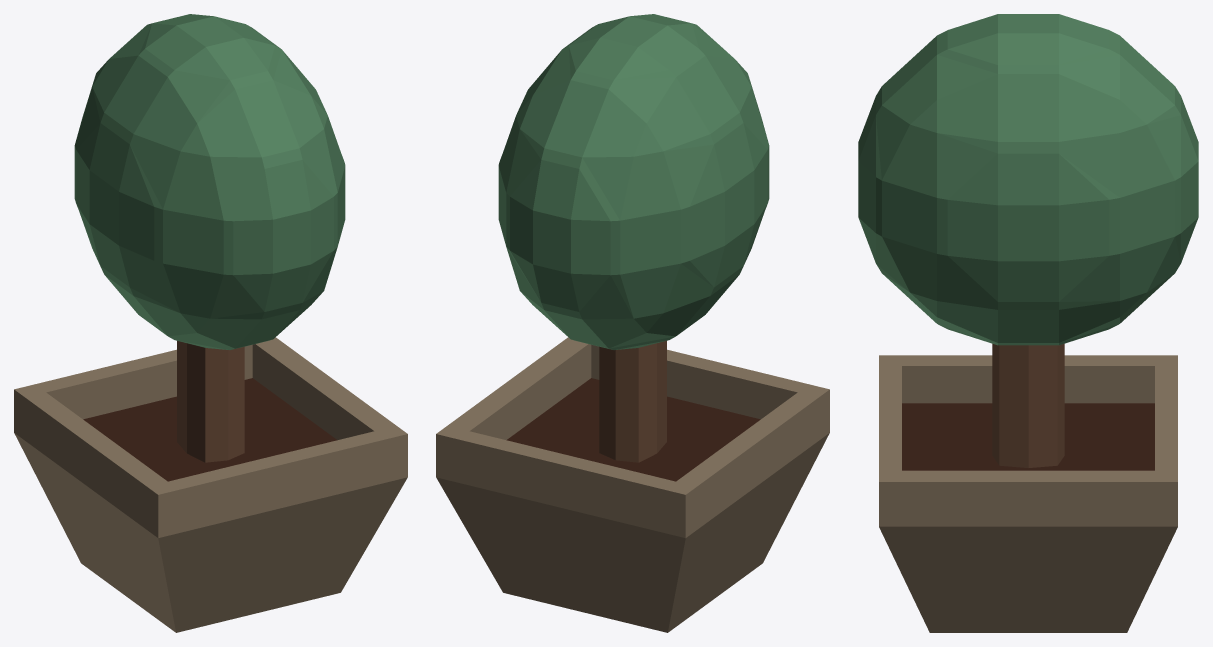
Rendered from plant-low.gltf.
3 views of the same model, side by side, from view 1: azimuth 30°, elevation 25°; view 2: azimuth 150°, elevation 25°; view 3: azimuth 270°, elevation 25° (orthographic). The views are drawn at different scales.
Visible parts, largest first — view 1: Cube.001, Mball.001, Cube; view 2: Cube.001, Mball.001, Cube; view 3: Mball.001, Cube.001, Cube.
Part boxes in pixels (left/top/right/bottom): Cube.001: left=14, top=337, right=407, bottom=632; Mball.001: left=74, top=14, right=345, bottom=349; Cube: left=177, top=341, right=244, bottom=462; Cube.001: left=436, top=337, right=829, bottom=632; Mball.001: left=498, top=14, right=769, bottom=349; Cube: left=599, top=341, right=666, bottom=462; Mball.001: left=858, top=14, right=1198, bottom=345; Cube.001: left=879, top=355, right=1177, bottom=632; Cube: left=992, top=344, right=1064, bottom=467.
Size of the model in its own units: 0.3506 by 0.7335 by 0.3988.
